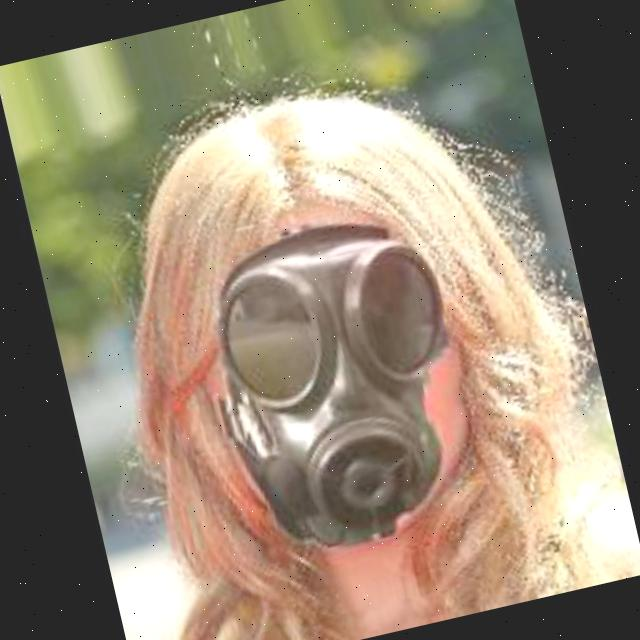suspicion: (116, 101, 534, 572)
